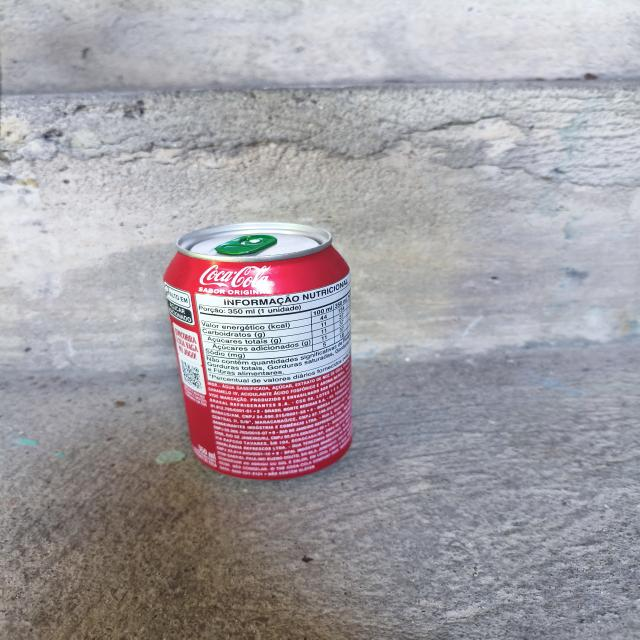Coca Cola: (115, 187, 438, 522)
